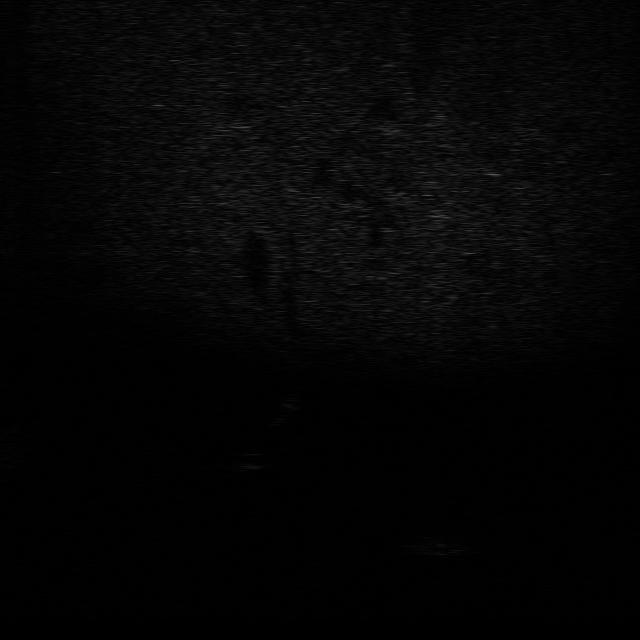ball: (227, 447, 275, 471)
circle cage: (396, 528, 469, 560)
human body: (266, 379, 304, 433)
